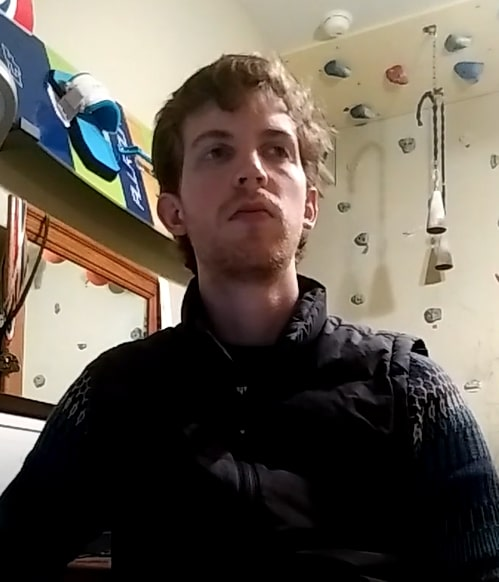Not Sleeping: (193, 129, 299, 170)
